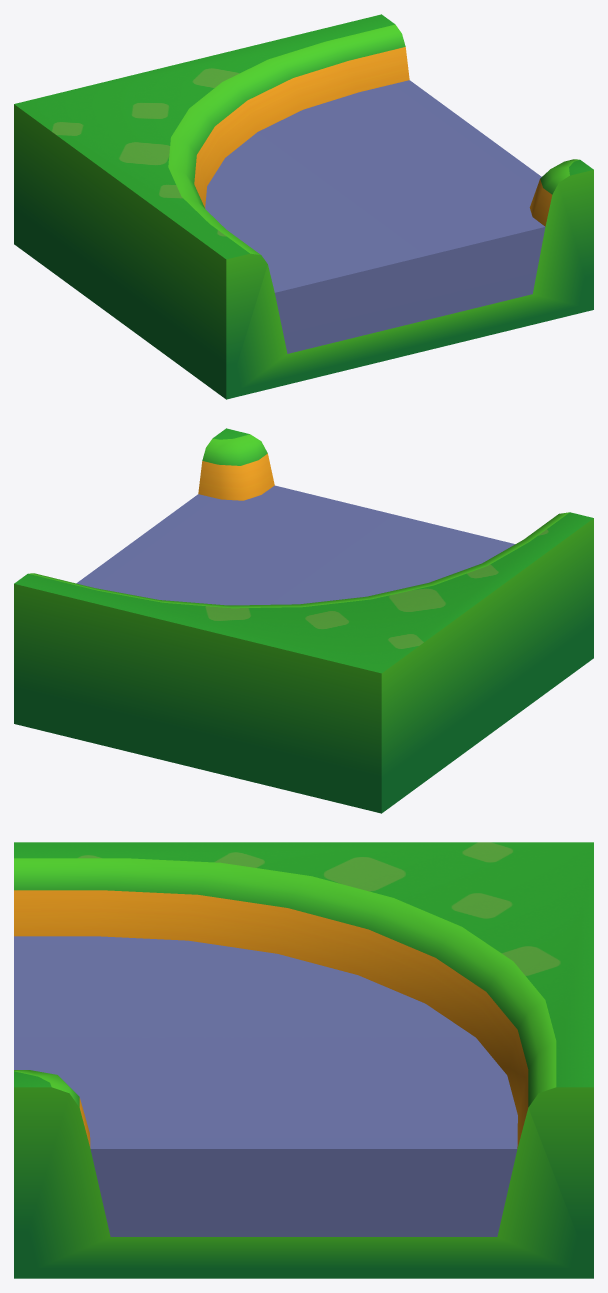
Rendered from RiverTile_3_2.fbx.
3 renders of one model, top to bottom at view 1: azimuth 30°, elevation 25°; view 2: azimuth 150°, elevation 25°; view 3: azimuth 270°, elevation 25°, orthographic. The views are drawn at different scales.
Visible parts, largest first — view 1: RiverTile_3_2; view 2: RiverTile_3_2; view 3: RiverTile_3_2.
Part boxes in pixels (x1,y1,x2,y2): RiverTile_3_2: (14,14,593,399); RiverTile_3_2: (14,428,593,813); RiverTile_3_2: (14,842,593,1278).
Bounding box in the file's own units: 400 × 146 × 400.
